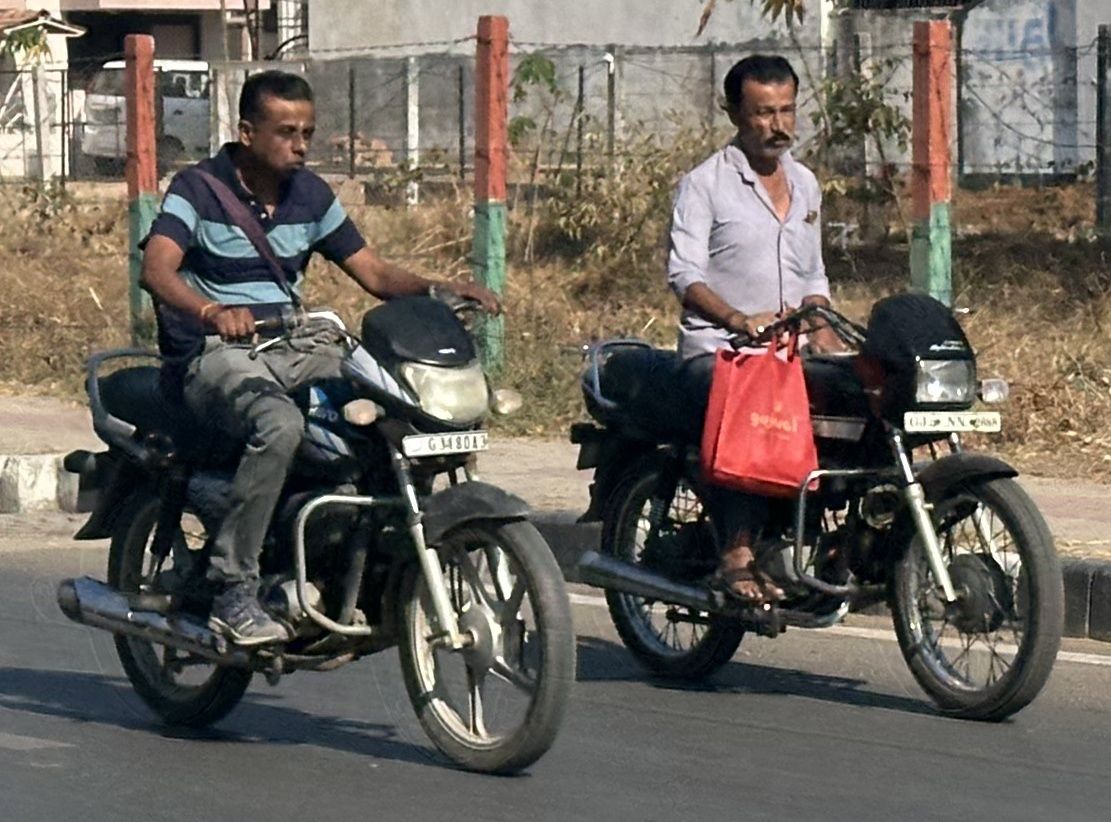BikeWithRider: (55, 63, 580, 778), (565, 44, 1077, 725)
NoHelmet: (231, 69, 334, 183), (719, 50, 805, 163)
